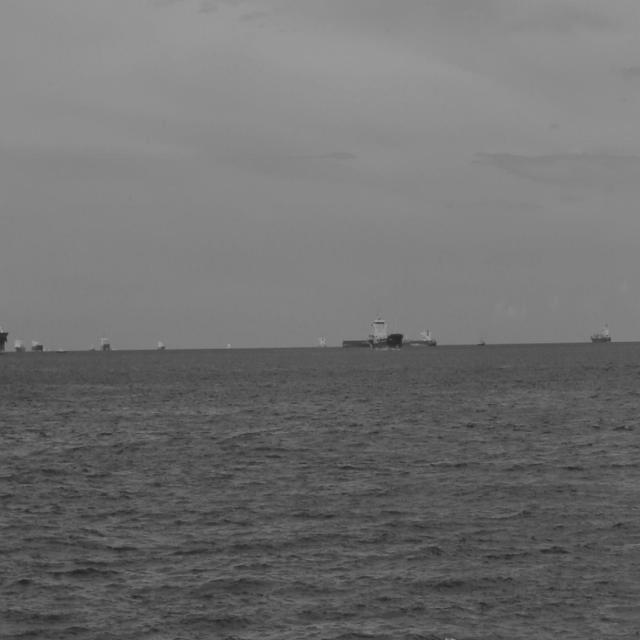ship: (339, 317, 401, 355), (341, 316, 404, 351), (403, 330, 438, 346), (592, 320, 614, 344), (592, 325, 613, 345), (27, 336, 45, 356), (99, 334, 112, 353), (13, 337, 23, 355), (1, 325, 7, 354), (156, 336, 166, 351)
